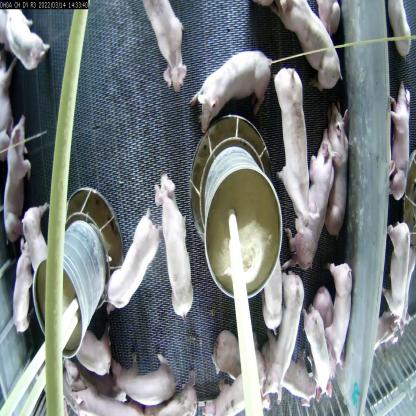Pig: (152, 161, 202, 328), (96, 206, 162, 325), (274, 59, 318, 236), (191, 52, 273, 136), (272, 0, 344, 94), (281, 133, 330, 271), (134, 0, 198, 103), (264, 267, 306, 409), (108, 343, 184, 409), (0, 113, 37, 248), (263, 336, 321, 414), (325, 257, 361, 379), (295, 300, 333, 408), (322, 98, 350, 240), (2, 6, 60, 73), (383, 207, 414, 331), (382, 84, 413, 207), (134, 364, 202, 415), (207, 329, 264, 388), (66, 324, 121, 382), (204, 376, 268, 416), (70, 380, 140, 416), (21, 200, 51, 281), (10, 240, 35, 334), (262, 254, 284, 347), (58, 358, 92, 416), (371, 304, 406, 359)
